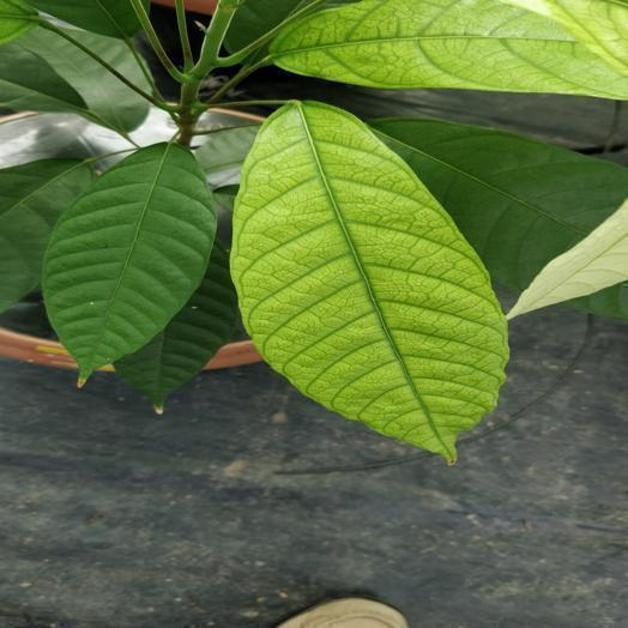Healthy Leaf: (369, 119, 627, 294), (42, 142, 216, 381), (114, 241, 237, 413), (0, 0, 156, 135), (0, 159, 93, 312)
Iron: (231, 103, 507, 460), (270, 0, 627, 100), (507, 199, 627, 319)
